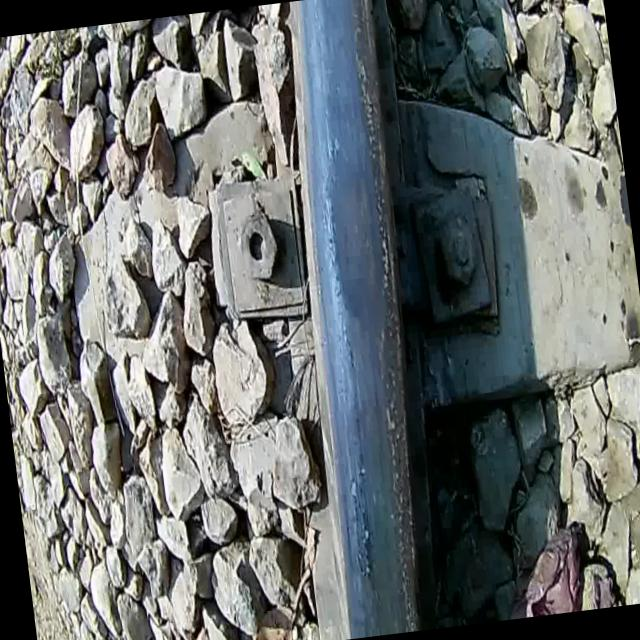Squats: (249, 0, 472, 640)
